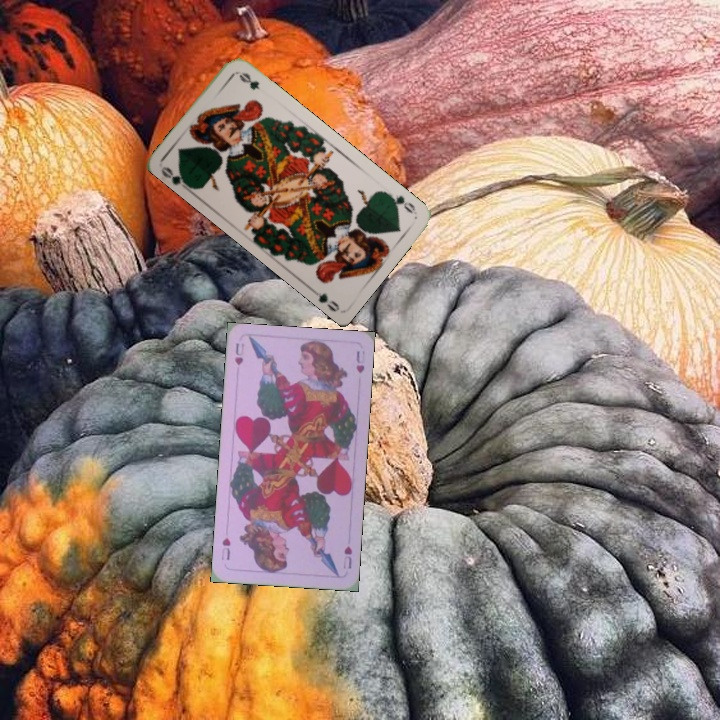GO: (157, 163, 195, 194), (382, 189, 418, 216)
HU: (230, 339, 247, 368), (339, 542, 354, 571)
